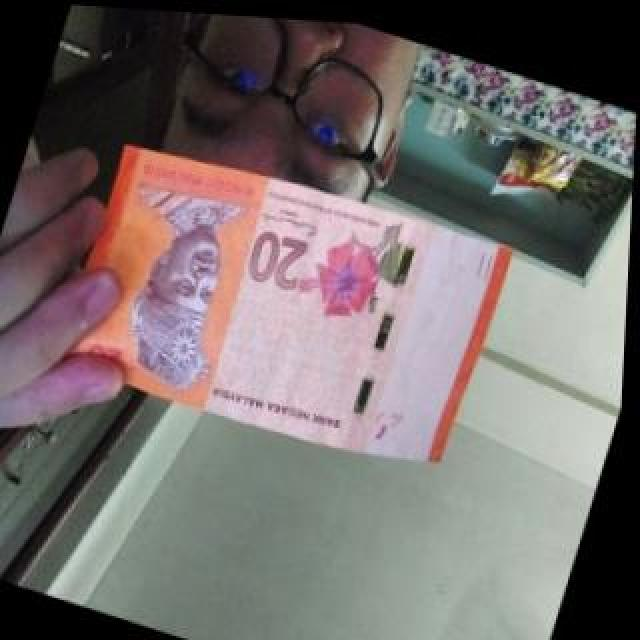20 Ringgit: (48, 114, 528, 490)
